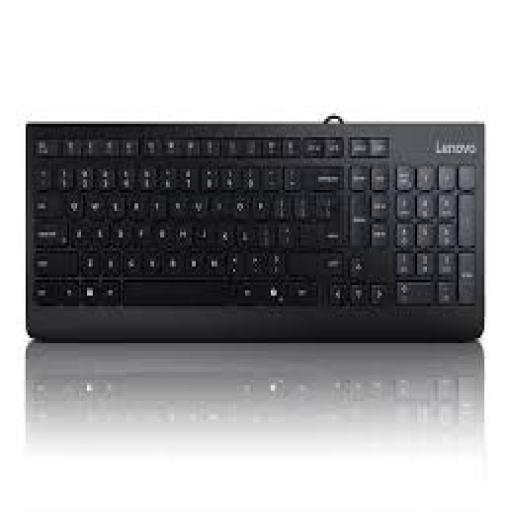KEYBOARD-2: (26, 121, 482, 338)
